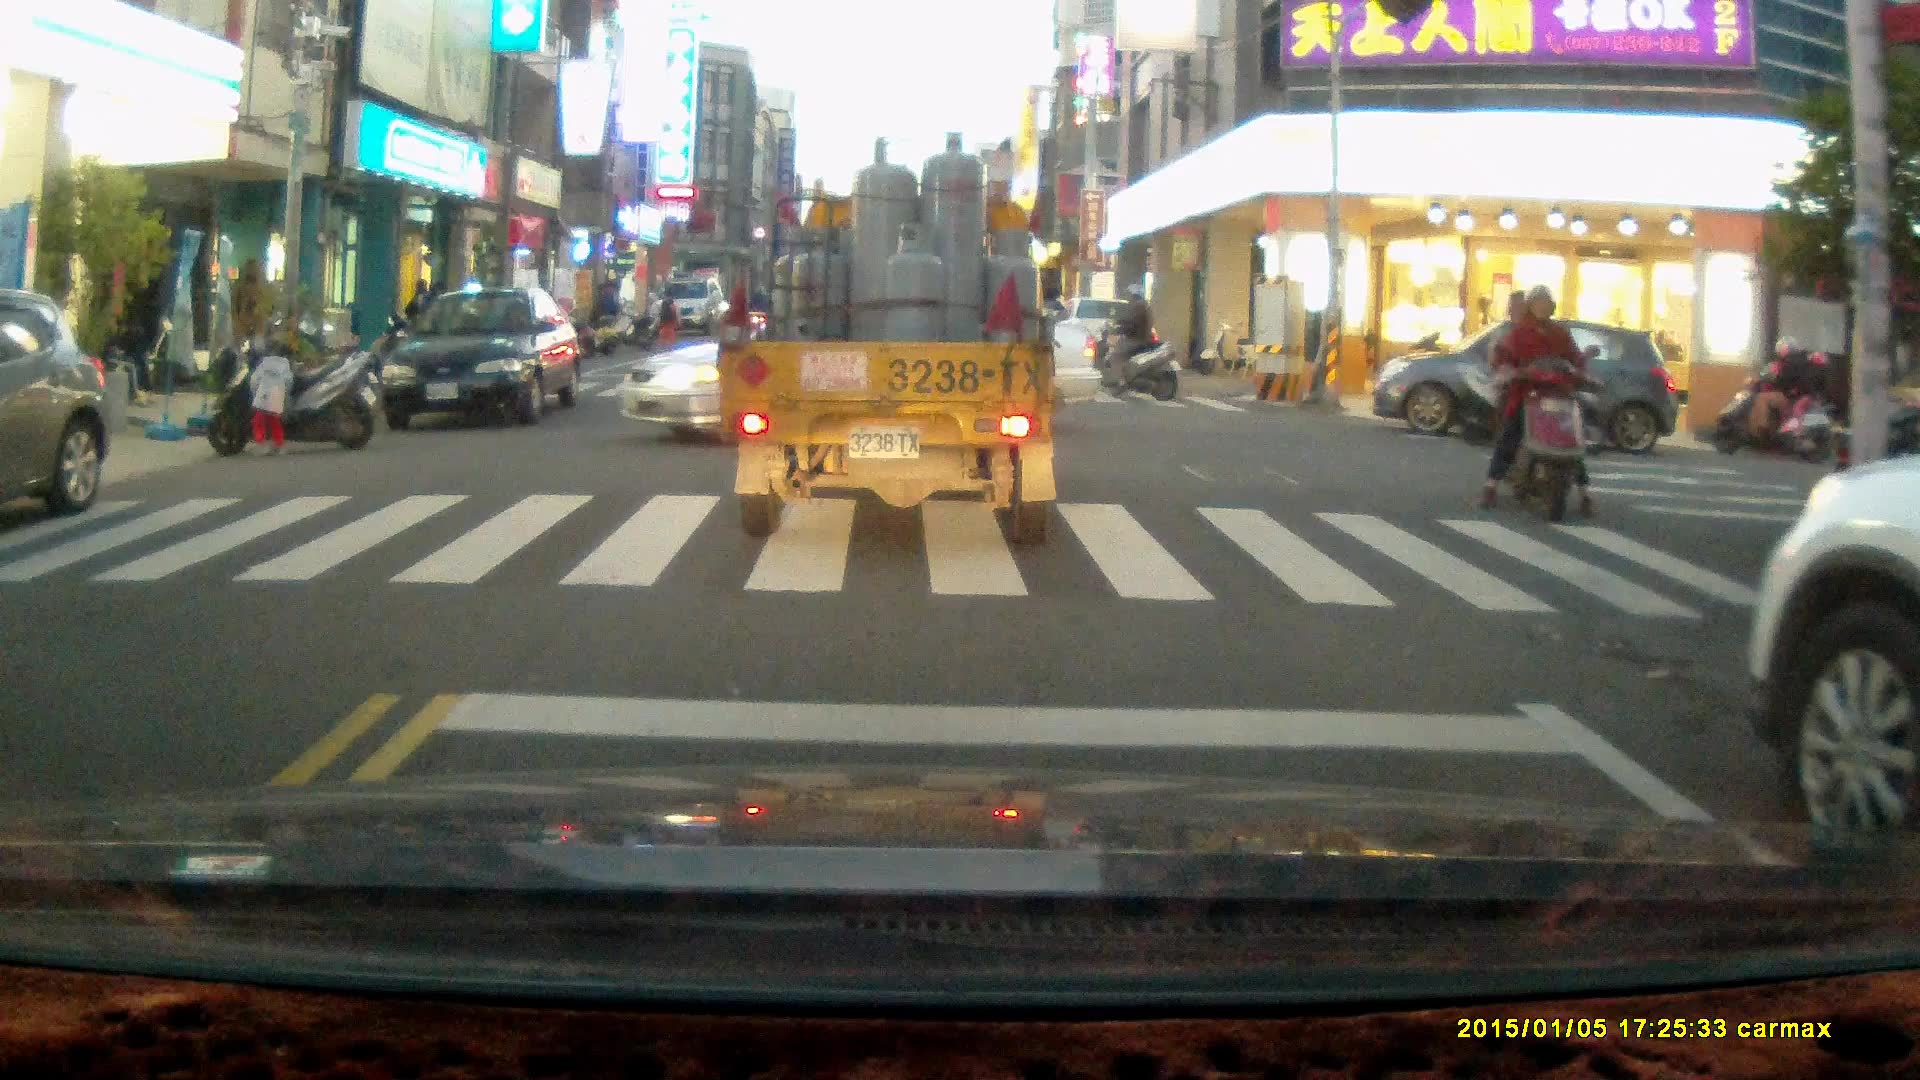pedestrian: (248, 339, 299, 459), (597, 278, 624, 340), (657, 285, 681, 343)
rider: (1477, 285, 1595, 523), (1711, 333, 1830, 465), (1087, 283, 1182, 404)
vehicle: (715, 129, 1060, 538), (619, 285, 1096, 440), (1742, 457, 1920, 863), (1368, 320, 1673, 462), (373, 288, 584, 430), (651, 278, 728, 334)
